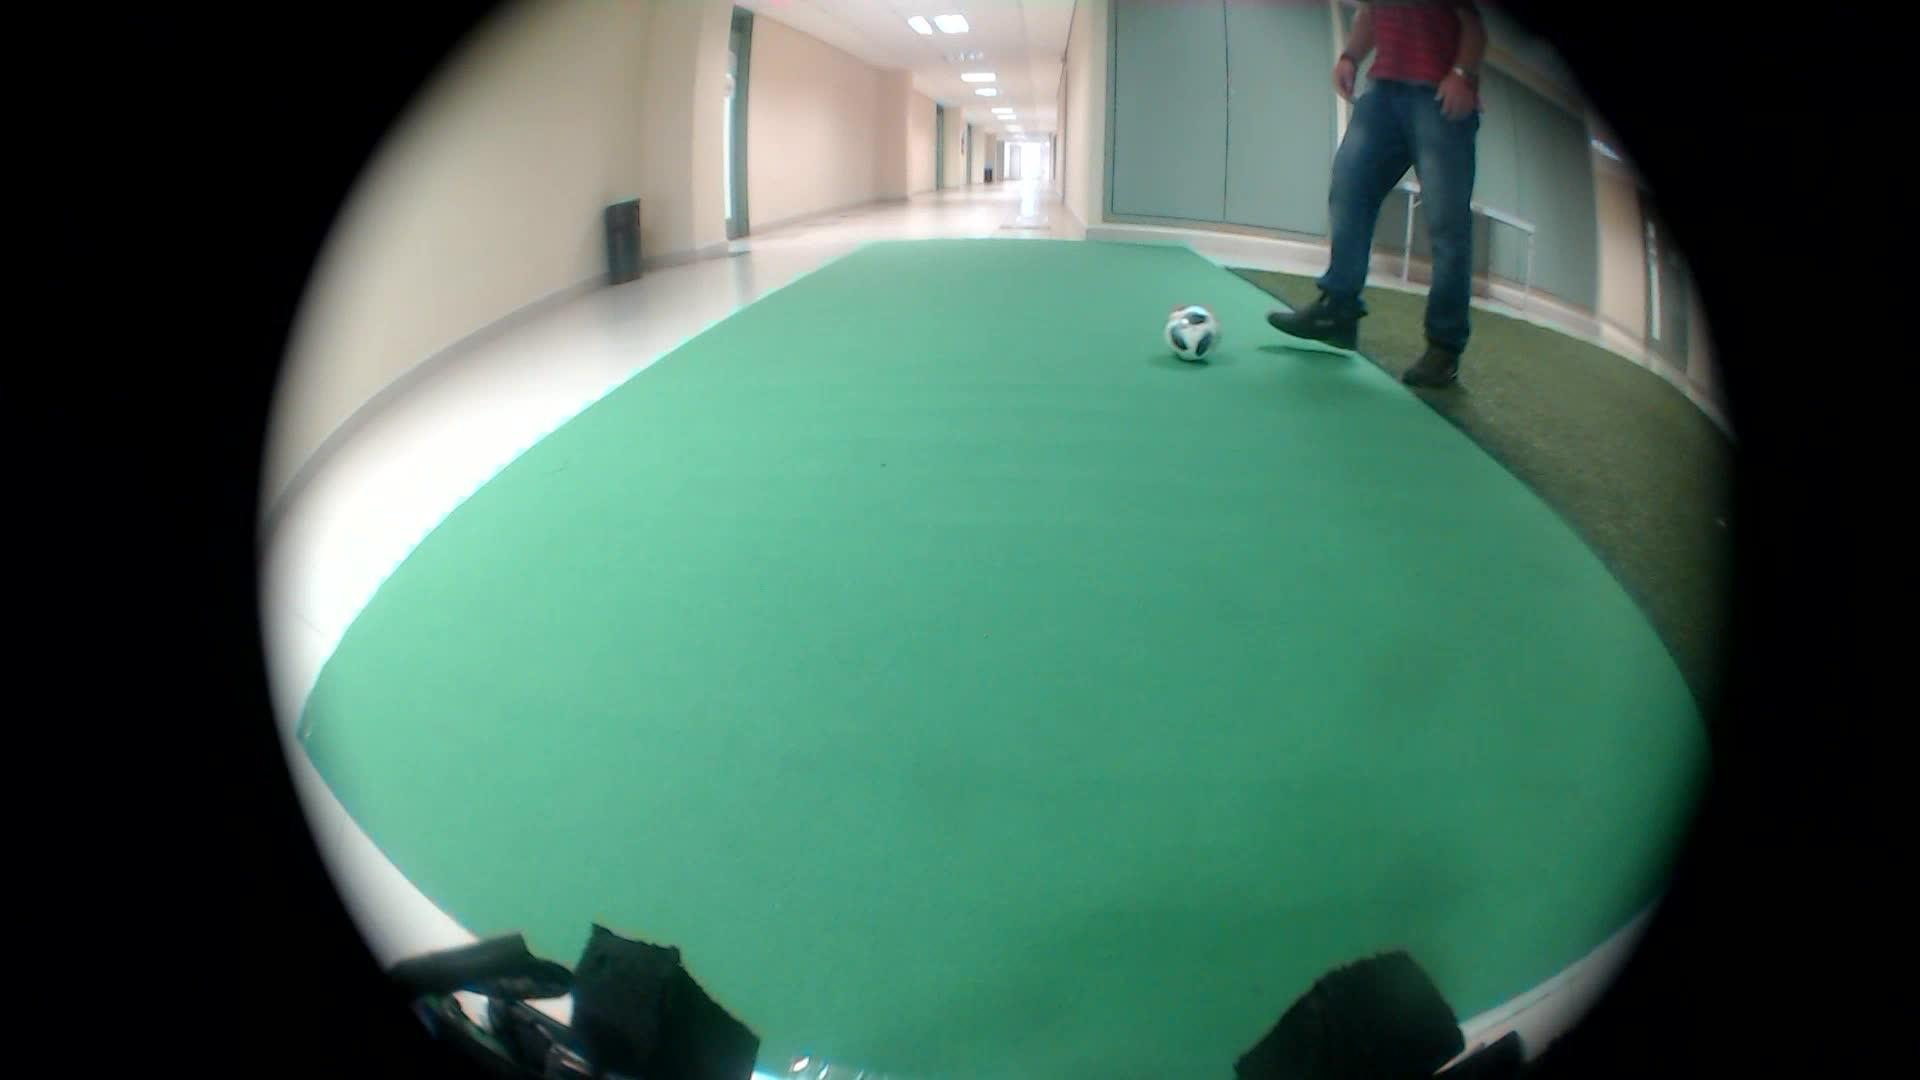ball: (1151, 287, 1234, 365)
